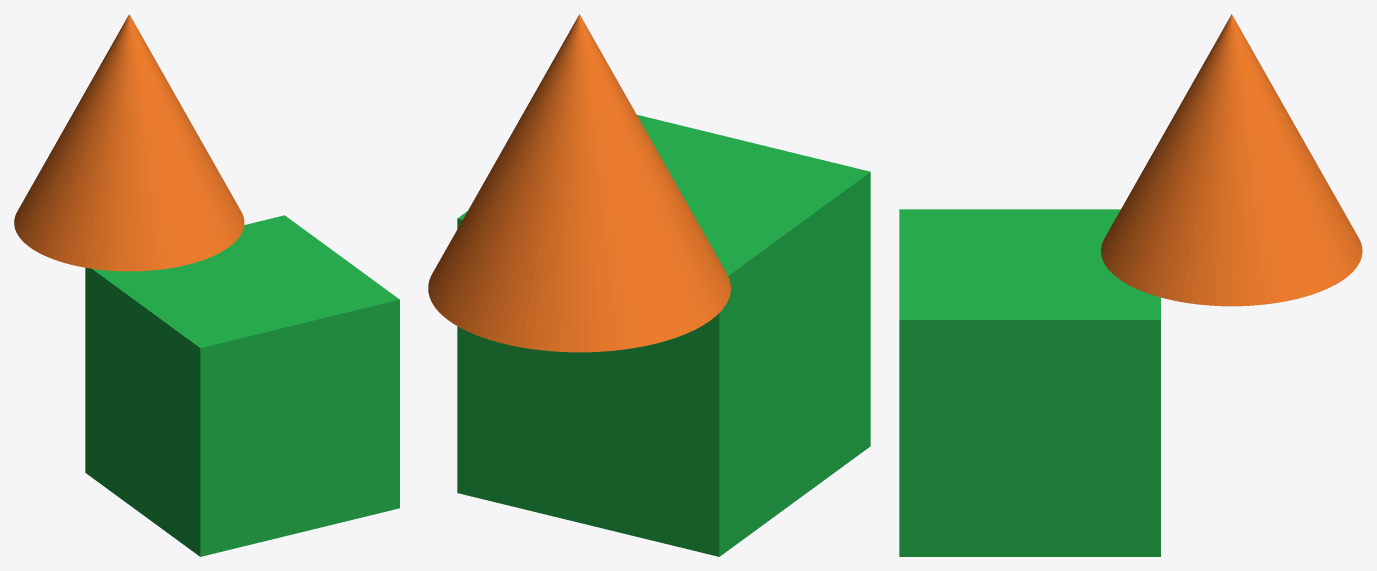
Rendered from demo2.gltf.
3 renders of one model, left to right at view 1: azimuth 30°, elevation 25°; view 2: azimuth 150°, elevation 25°; view 3: azimuth 270°, elevation 25°, orthographic. The views are drawn at different scales.
Bounding box in the file's own units: 0.0449 × 0.08 × 0.0708.
